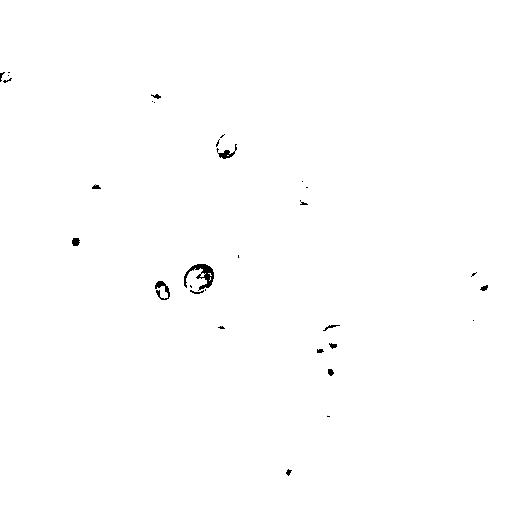micro-algae: (83, 147, 153, 221), (461, 87, 511, 145), (462, 269, 506, 305), (456, 309, 499, 344), (76, 175, 117, 209), (277, 455, 313, 490), (182, 261, 215, 295), (309, 350, 345, 381), (61, 222, 92, 256), (318, 324, 354, 353), (283, 177, 315, 205), (214, 131, 239, 159), (154, 279, 173, 301), (1, 69, 14, 83), (229, 251, 241, 265)
